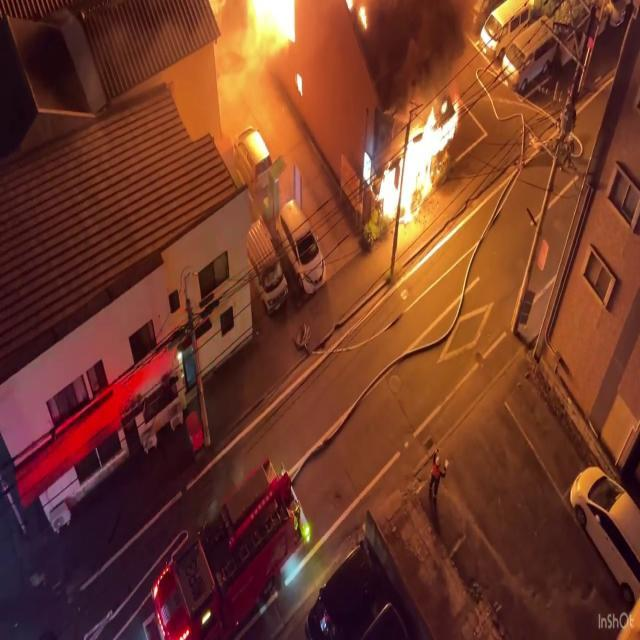Fire: (374, 93, 462, 230), (219, 0, 309, 63)
